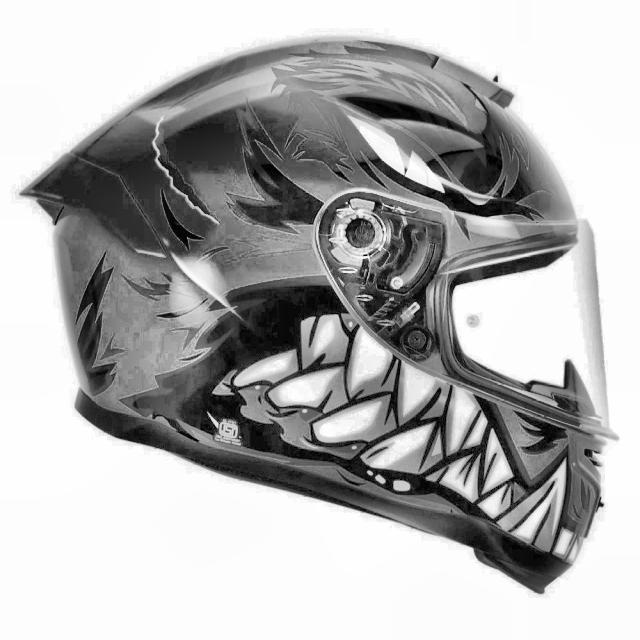Helmet: (10, 34, 631, 597)
